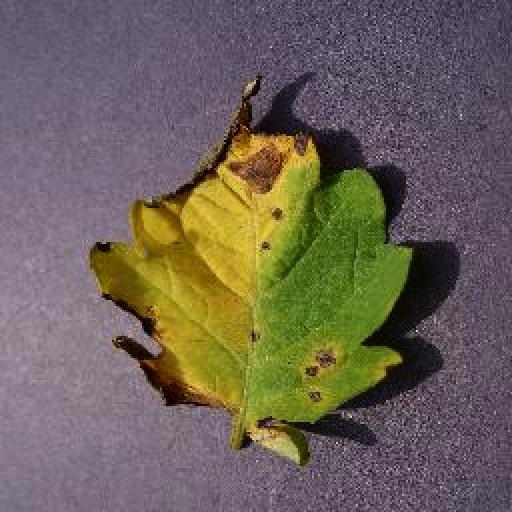disease_tomato: (90, 75, 418, 465)
